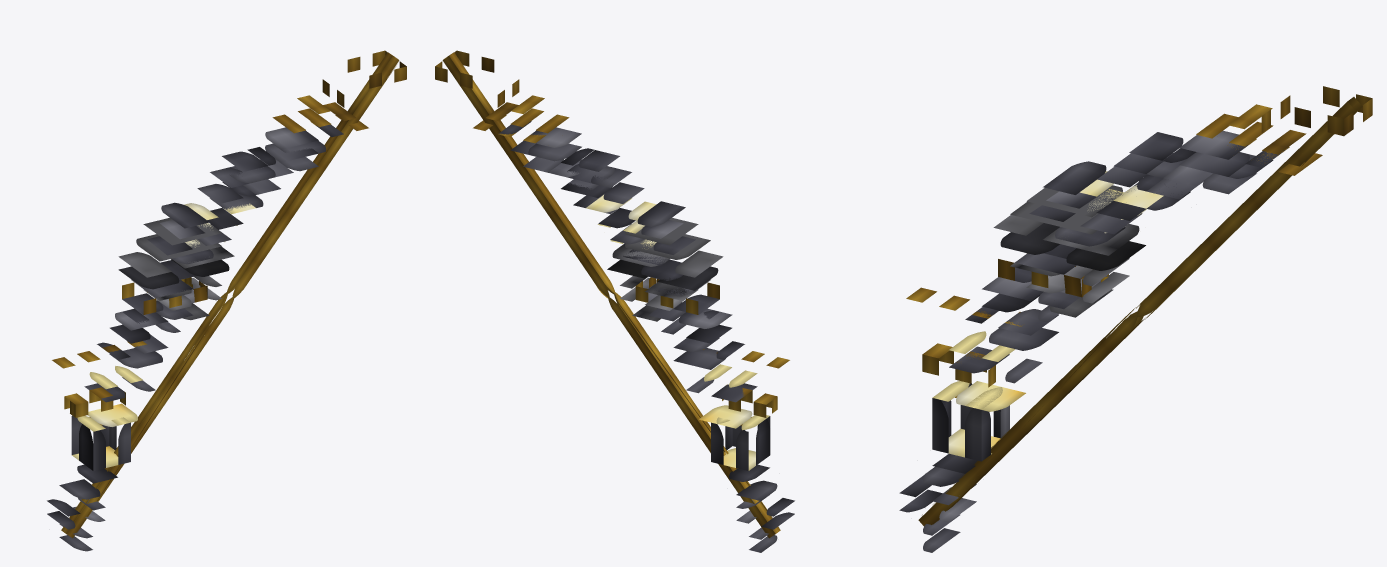
File: wingbow.obj
The picture shows the model from 3 angles, left to right: view 1: azimuth 30°, elevation 25°; view 2: azimuth 150°, elevation 25°; view 3: azimuth 330°, elevation 25°; orthographic projection. The views are drawn at different scales.
Parts seen in each view (by area): view 1: lit; view 2: lit; view 3: lit.
Boxes of the visible parts, bbox=[...] form: lit: bbox=[47, 50, 406, 551]; lit: bbox=[435, 50, 794, 552]; lit: bbox=[899, 86, 1372, 552].
Bounding box in the file's own units: 0.9409 × 1.09 × 0.125.
